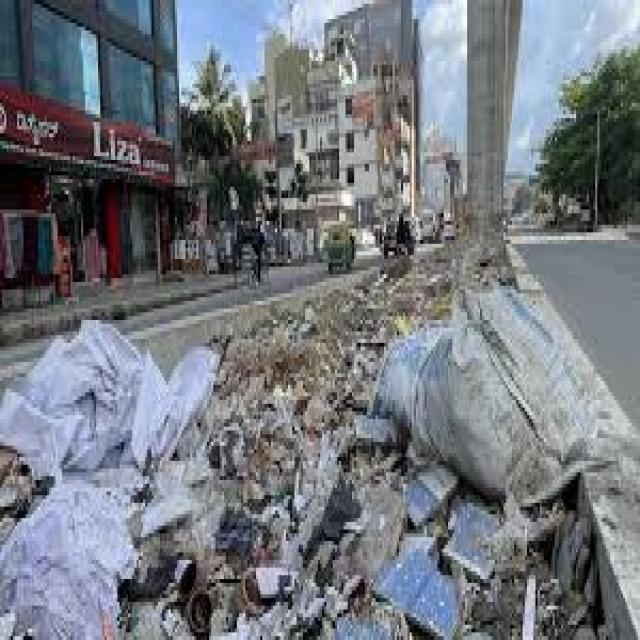garbage: (5, 277, 601, 633)
